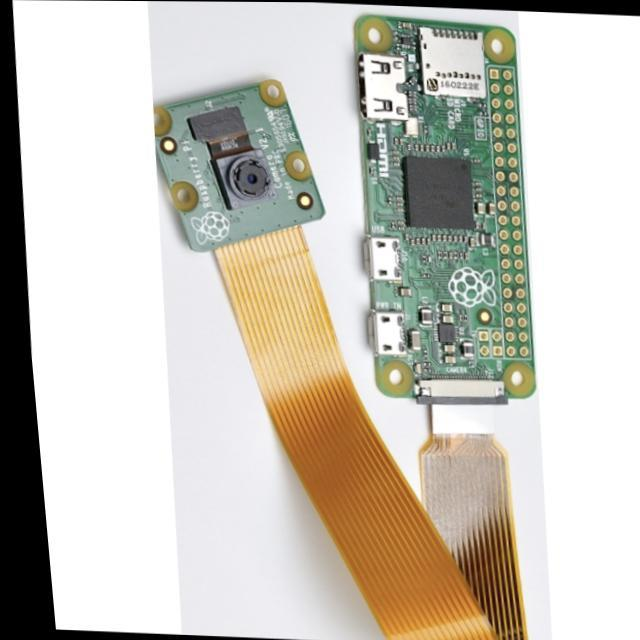Raspberry-Pi-Zero: (355, 15, 536, 410)
